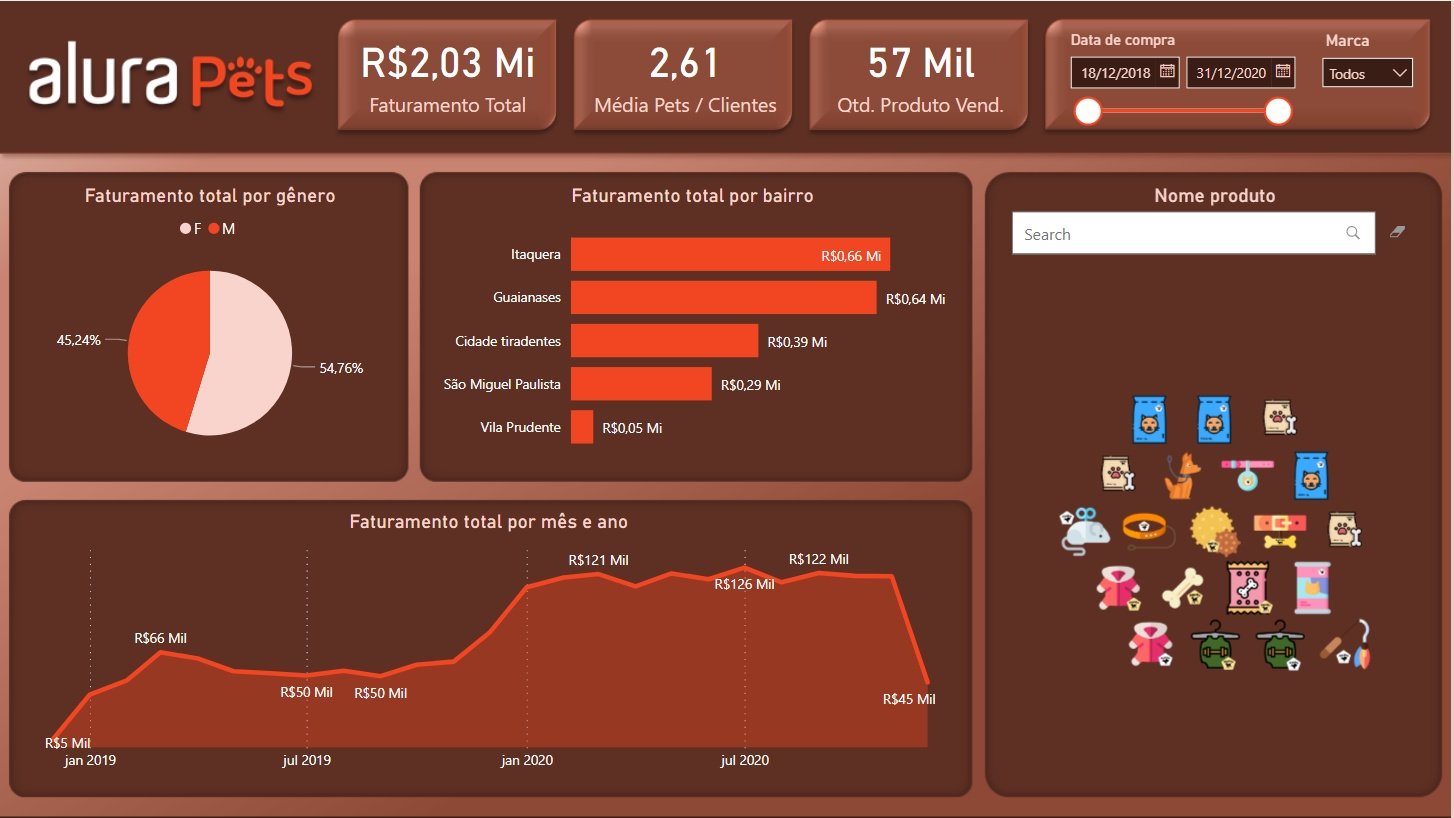

The page's visual inventory and layout, read from the dashboard file:
{"tool":"powerbi","page":{"name":"Página 1","canvas":[1280,720],"ordinal":0},"visuals":[{"type":"card","fields":{"Values":["Vendas.Faturamento Total"]},"box":[312.1,22.2,166.7,80.7],"z":0},{"type":"card","fields":{"Values":["Avg(Clientes.Pets)"]},"box":[516.9,22.2,174.7,80.7],"z":1000},{"type":"card","fields":{"Values":["Sum(Vendas.Quantidade)"]},"box":[727.1,22.2,170.2,80.7],"z":2000},{"type":"pieChart","title":"Faturamento total por gênero","fields":{"Category":["Clientes.Gênero"],"Y":["Vendas.Faturamento Total"]},"box":[19.5,161.4,333.4,250],"z":3000},{"type":"clusteredBarChart","title":"Faturamento total por bairro","fields":{"Category":["Clientes.Bairro"],"Y":["Vendas.Faturamento Total"]},"box":[377.7,161.4,466.4,250],"z":4000},{"type":"areaChart","title":"Faturamento total por mês e ano","fields":{"Category":["Vendas.Data de compra.Variation.Hierarquia de datas.Ano","Vendas.Data de compra.Variation.Hierarquia de datas.Trimestre","Vendas.Data de compra.Variation.Hierarquia de datas.Mês","Vendas.Data de compra.Variation.Hierarquia de datas.Dia"],"Y":["Vendas.Faturamento Total"]},"box":[19.5,448.7,824.6,239.4],"z":5000},{"type":"ImageGrid_FC5183B9_926C_45E0_B5F7_0CE9EAF1DA9B","fields":{"ImageURLHQ":["Produtos.Url img"]},"box":[887.6,246.5,368.9,441.6],"z":6000},{"type":"textFilter25A4896A83E0487089E2B90C9AE57C8A","fields":{"field":["Produtos.Nome produto"]},"box":[887.6,161.4,368.9,72.7],"z":7000},{"type":"slicer","fields":{"Values":["Vendas.Data de compra"]},"box":[931.9,22.2,217.2,175.6],"z":8000},{"type":"slicer","fields":{"Values":["Produtos.Marca"]},"box":[1156.3,22.2,100.2,70],"z":9000}]}

Visuals, with their boxes in screenshot pixels (x1, y1, x2, y2), scaled from the page's 1280x720 canvas onto the 1454x818 screenshot:
card - Vendas.Faturamento Total: box(355, 25, 544, 117)
card - Avg(Clientes.Pets): box(587, 25, 786, 117)
card - Sum(Vendas.Quantidade): box(826, 25, 1019, 117)
"Faturamento total por gênero" pieChart: box(22, 183, 401, 467)
"Faturamento total por bairro" clusteredBarChart: box(429, 183, 959, 467)
"Faturamento total por mês e ano" areaChart: box(22, 510, 959, 782)
ImageGrid_FC5183B9_926C_45E0_B5F7_0CE9EAF1DA9B - Produtos.Url img: box(1008, 280, 1427, 782)
textFilter25A4896A83E0487089E2B90C9AE57C8A - Produtos.Nome produto: box(1008, 183, 1427, 266)
slicer - Vendas.Data de compra: box(1059, 25, 1305, 225)
slicer - Produtos.Marca: box(1313, 25, 1427, 105)
